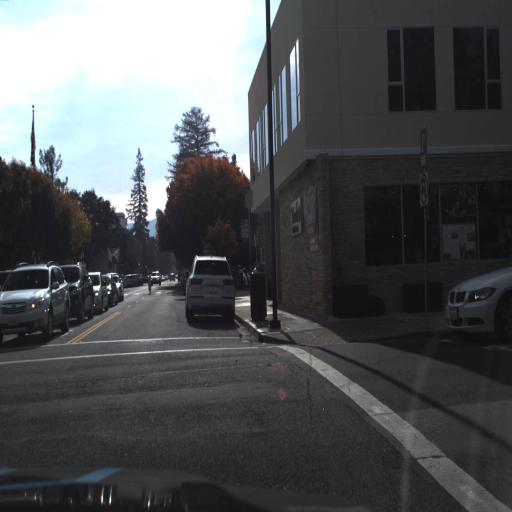car: (446, 257, 511, 334), (184, 254, 235, 327), (63, 263, 94, 322), (90, 272, 105, 316), (105, 273, 117, 305), (123, 273, 144, 287), (115, 272, 124, 304), (150, 268, 161, 284)
